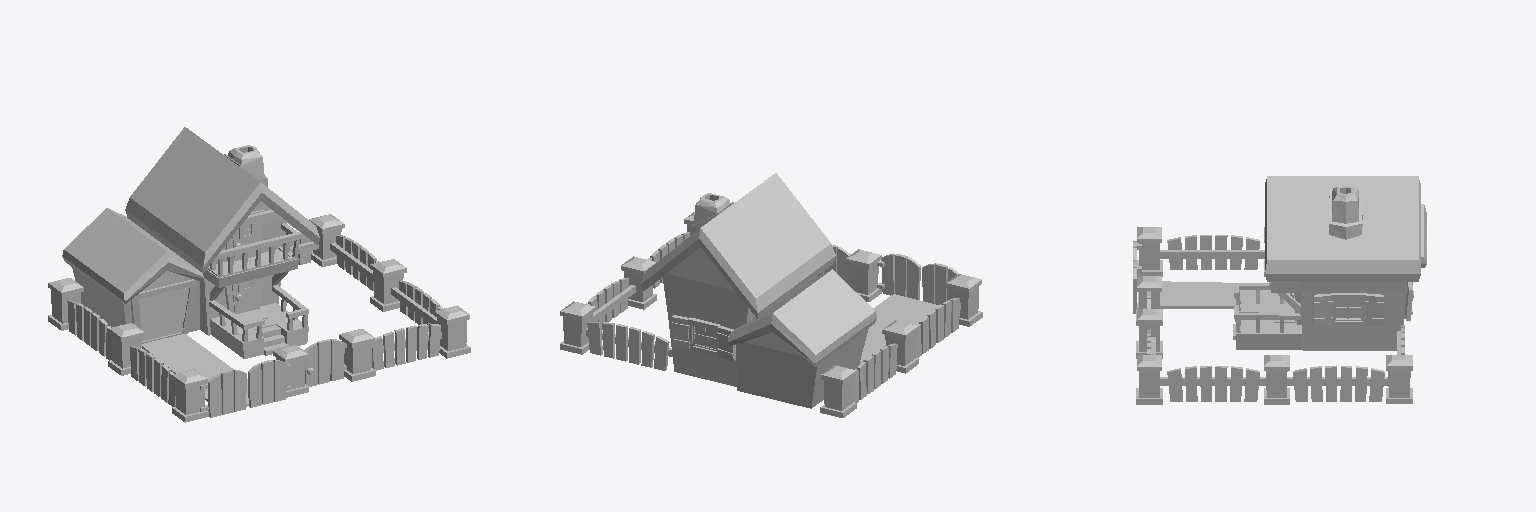
The model's file is House_06.obj.
The picture shows the model from 3 angles: view 1: azimuth 30°, elevation 25°; view 2: azimuth 150°, elevation 25°; view 3: azimuth 270°, elevation 25°; orthographic projection.
Visible parts, largest first — view 1: House_06; view 2: House_06; view 3: House_06.
Part boxes in pixels (x1,y1,x2,y2): House_06: (48, 127, 470, 422); House_06: (560, 173, 982, 417); House_06: (1133, 176, 1426, 404).
Size of the model in its own units: 691 by 366 by 616.